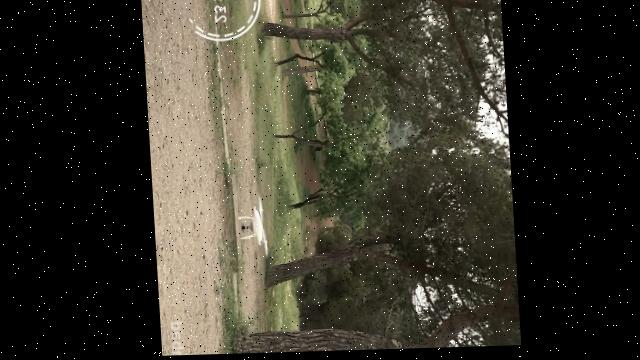drone: (231, 196, 266, 261)
